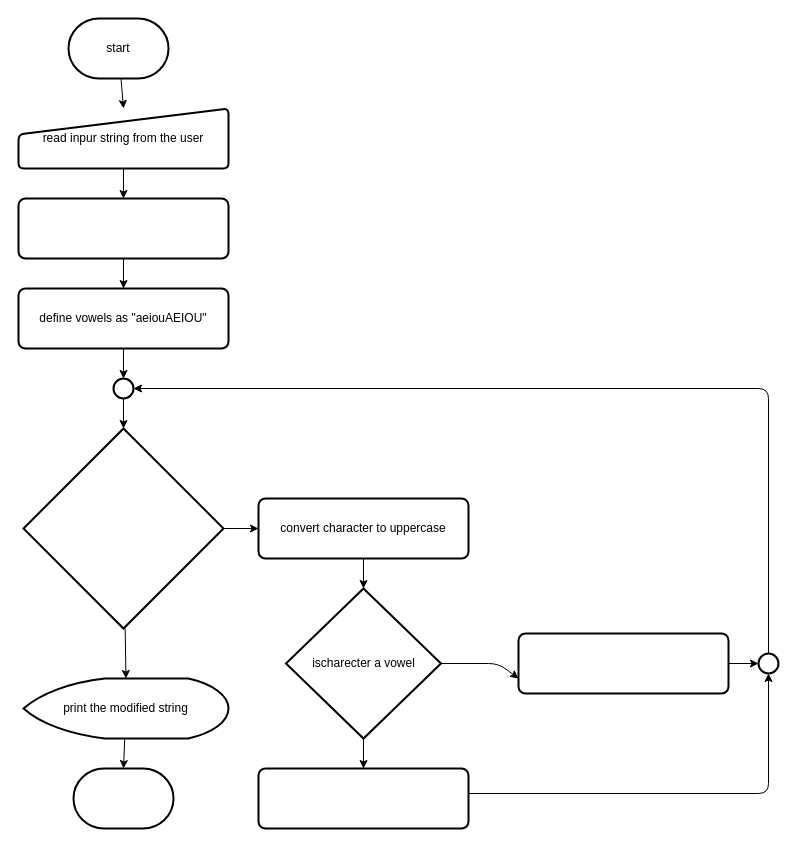
Image size: 796x846. Some labels were removed from this diagram. The centre of each missing label's shape, as x and y in pixels:
"end" goes at pixel 123 798.
"initialize an emty string for the resulr" goes at pixel 123 228.
"more charaters in string?" goes at pixel 123 528.
